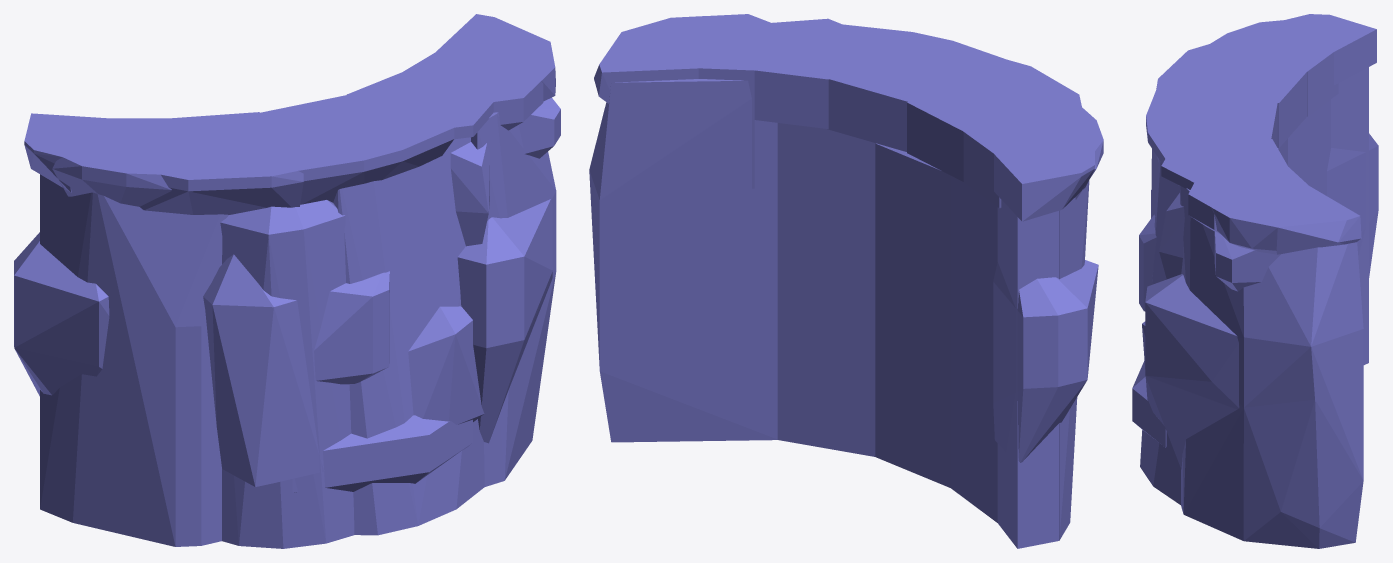
Rendered from Cliff_Wall_Out_01_Collider_01.FBX.
3 views of the same model, side by side, from view 1: azimuth 30°, elevation 25°; view 2: azimuth 150°, elevation 25°; view 3: azimuth 270°, elevation 25° (orthographic). The views are drawn at different scales.
Visible parts, largest first — view 1: COLLIDER10, COLLIDER8, COLLIDER9, COLLIDER15, COLLIDER14, COLLIDER1, COLLIDER5, COLLIDER12, COLLIDER11, COLLIDER6, COLLIDER16, COLLIDER17 (+7 smaller); view 2: COLLIDER11, COLLIDER8, COLLIDER9, COLLIDER10, COLLIDER12, COLLIDER1, COLLIDER13, COLLIDER5, COLLIDER2, COLLIDER6, COLLIDER3, COLLIDER7 (+1 smaller); view 3: COLLIDER11, COLLIDER14, COLLIDER1, COLLIDER5, COLLIDER3, COLLIDER6, COLLIDER13, COLLIDER2, COLLIDER4, COLLIDER12, COLLIDER8, COLLIDER7 (+7 smaller).
Boxes of the visible parts, bbox=[...] form: COLLIDER10: bbox=[40, 174, 228, 546]; COLLIDER8: bbox=[333, 137, 484, 535]; COLLIDER9: bbox=[220, 200, 354, 548]; COLLIDER15: bbox=[203, 254, 324, 486]; COLLIDER14: bbox=[457, 199, 552, 443]; COLLIDER1: bbox=[249, 94, 454, 204]; COLLIDER5: bbox=[140, 112, 303, 214]; COLLIDER12: bbox=[14, 232, 109, 396]; COLLIDER11: bbox=[471, 112, 556, 486]; COLLIDER6: bbox=[52, 118, 171, 206]; COLLIDER16: bbox=[292, 415, 472, 492]; COLLIDER17: bbox=[314, 271, 389, 384]; COLLIDER11: bbox=[589, 79, 777, 442]; COLLIDER8: bbox=[777, 123, 875, 456]; COLLIDER9: bbox=[875, 143, 950, 487]; COLLIDER10: bbox=[950, 176, 1089, 540]; COLLIDER12: bbox=[993, 260, 1098, 462]; COLLIDER1: bbox=[825, 24, 1007, 151]; COLLIDER13: bbox=[997, 200, 1058, 548]; COLLIDER5: bbox=[907, 59, 1083, 181]; COLLIDER2: bbox=[742, 18, 842, 128]; COLLIDER6: bbox=[963, 106, 1103, 208]; COLLIDER3: bbox=[594, 16, 704, 103]; COLLIDER7: bbox=[994, 150, 1094, 221]; COLLIDER11: bbox=[1180, 186, 1363, 548]; COLLIDER14: bbox=[1145, 274, 1239, 469]; COLLIDER1: bbox=[1146, 89, 1278, 163]; COLLIDER5: bbox=[1156, 40, 1306, 148]; COLLIDER3: bbox=[1211, 186, 1361, 254]; COLLIDER6: bbox=[1208, 19, 1338, 116]; COLLIDER13: bbox=[1331, 67, 1368, 364]; COLLIDER2: bbox=[1161, 139, 1290, 189]; COLLIDER4: bbox=[1188, 167, 1315, 234]; COLLIDER12: bbox=[1327, 133, 1378, 277]; COLLIDER8: bbox=[1140, 159, 1180, 504]; COLLIDER7: bbox=[1284, 14, 1376, 85].
Size of the model in its own units: 954 by 661 by 447.
